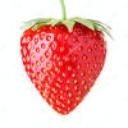strawberry: (18, 12, 114, 116)
